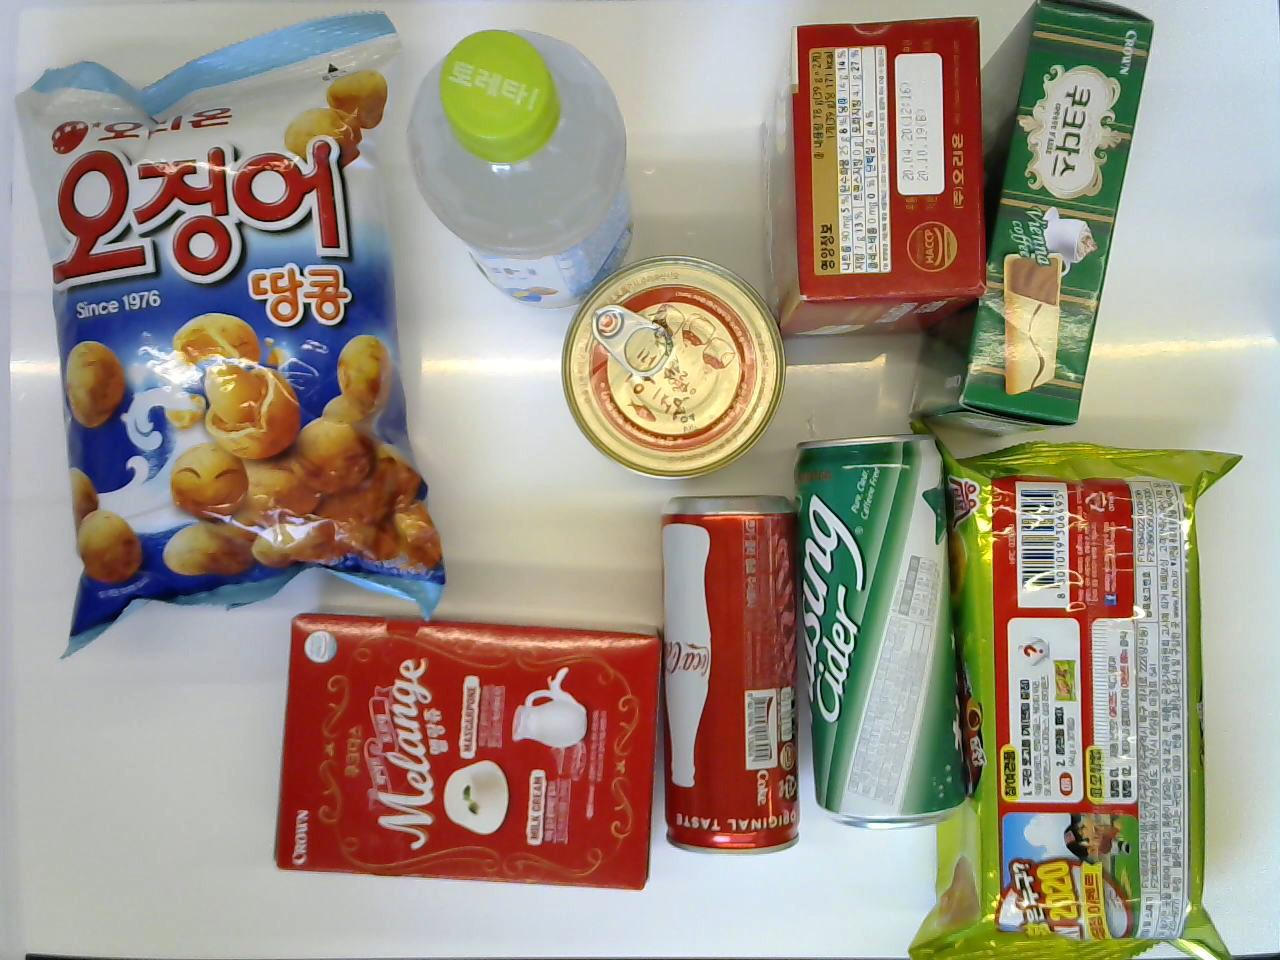chocopie: (764, 7, 987, 343)
cidar: (792, 426, 977, 832)
coke: (655, 489, 802, 858)
couque_coffee: (903, 0, 1155, 438)
couque_white: (271, 606, 670, 895)
homerunball: (895, 422, 1247, 960)
squid_peanut: (13, 6, 445, 655)
toreta: (402, 19, 638, 306)
tuna: (558, 250, 784, 482)
